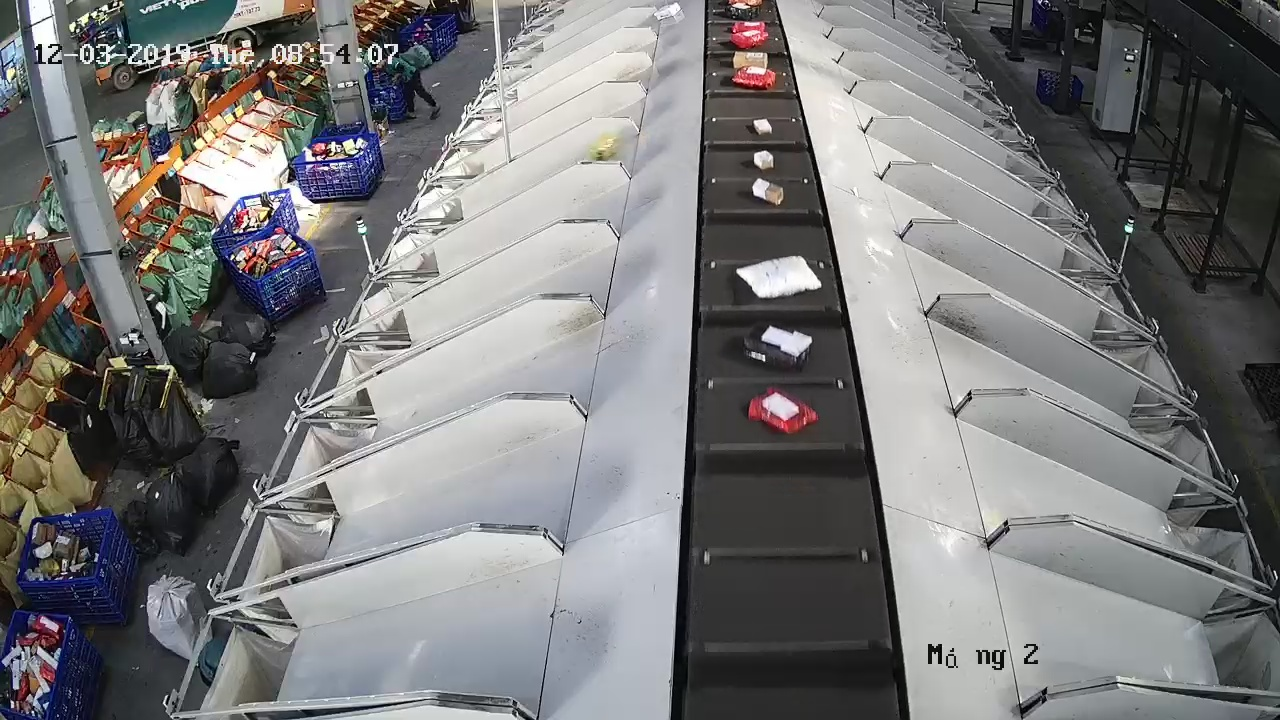parcel: (734, 254, 825, 301), (746, 385, 821, 437), (741, 320, 815, 372), (751, 176, 786, 206), (588, 135, 619, 161), (752, 148, 776, 171), (750, 115, 774, 136)
